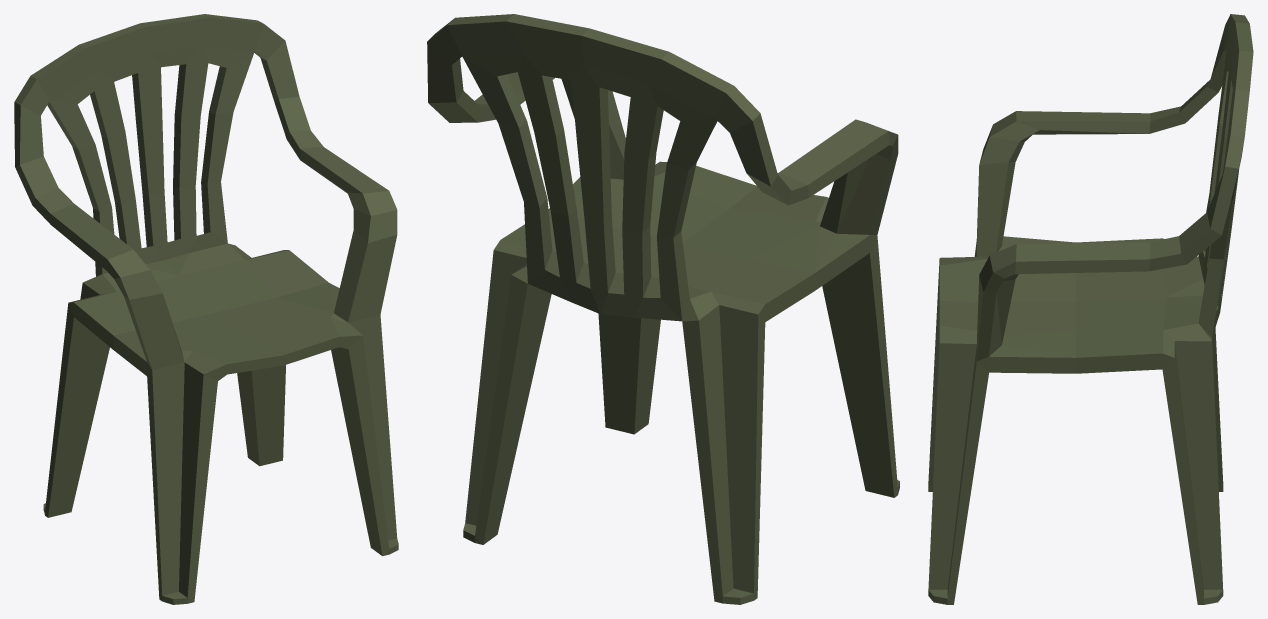
Rendered from SM_Prop_Chair_04.fbx.
The picture shows the model from 3 angles, left to right: view 1: azimuth 30°, elevation 25°; view 2: azimuth 150°, elevation 25°; view 3: azimuth 270°, elevation 25°; orthographic projection. The views are drawn at different scales.
Visible parts, largest first — view 1: SM_Prop_Chair_04; view 2: SM_Prop_Chair_04; view 3: SM_Prop_Chair_04.
Part boxes in pixels (left/top/right/bottom): SM_Prop_Chair_04: left=14, top=14, right=398, bottom=604; SM_Prop_Chair_04: left=427, top=14, right=899, bottom=604; SM_Prop_Chair_04: left=928, top=14, right=1253, bottom=604.
Size of the model in its own units: 66.54 by 100 by 60.19.
